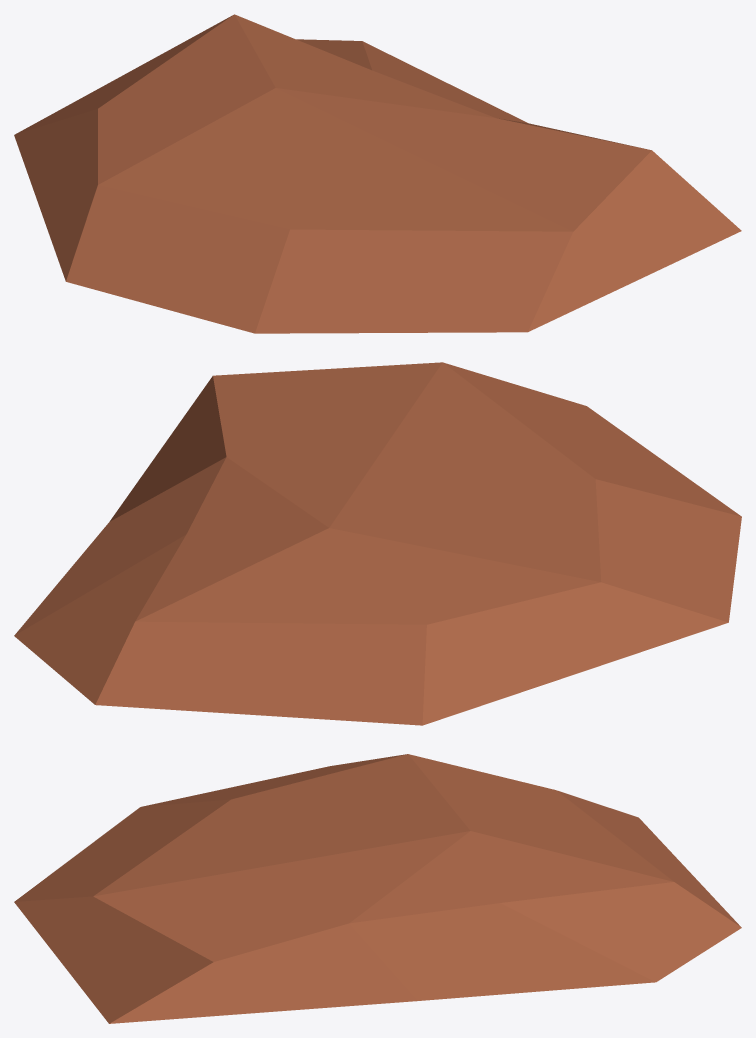
File: pebble5.glb
3 renders of one model, top to bottom at view 1: azimuth 30°, elevation 25°; view 2: azimuth 150°, elevation 25°; view 3: azimuth 270°, elevation 25°, orthographic. The views are drawn at different scales.
Visible parts, largest first — view 1: pebble5; view 2: pebble5; view 3: pebble5.
Boxes of the visible parts, x1,y1,x2,y2 form: pebble5: (14, 14, 741, 333); pebble5: (14, 362, 741, 725); pebble5: (14, 754, 741, 1023).
Bounding box in the file's own units: 0.5676 × 0.068 × 0.6772.
